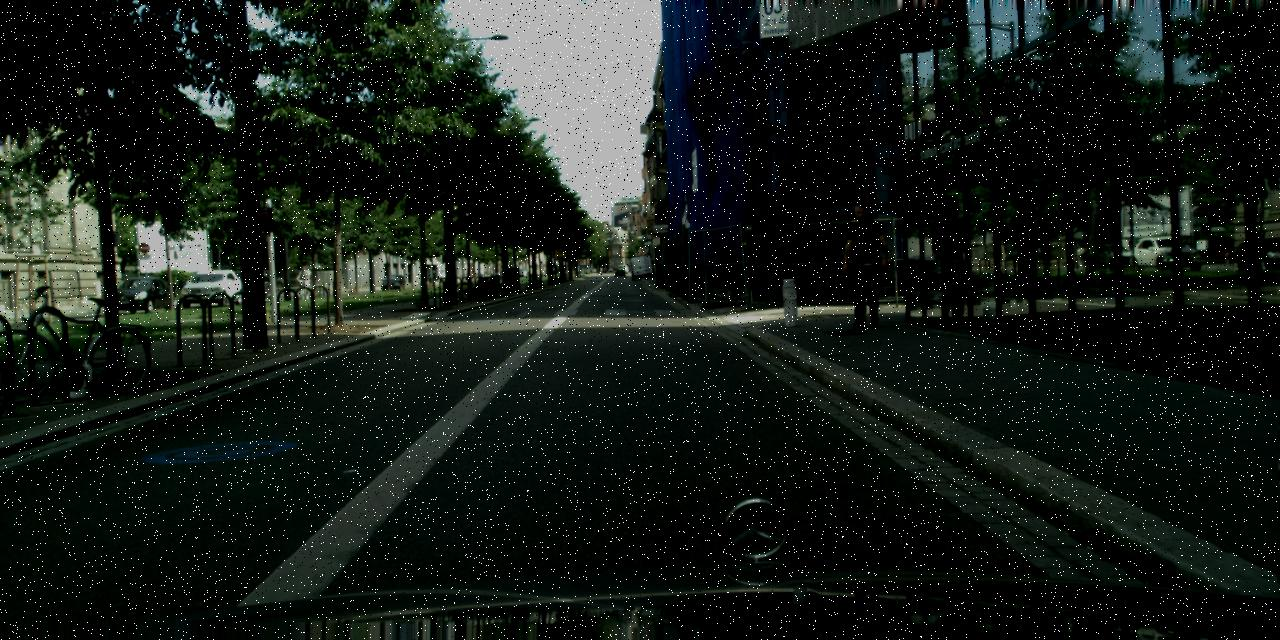ped: (840, 201, 890, 325), (299, 266, 310, 294)
